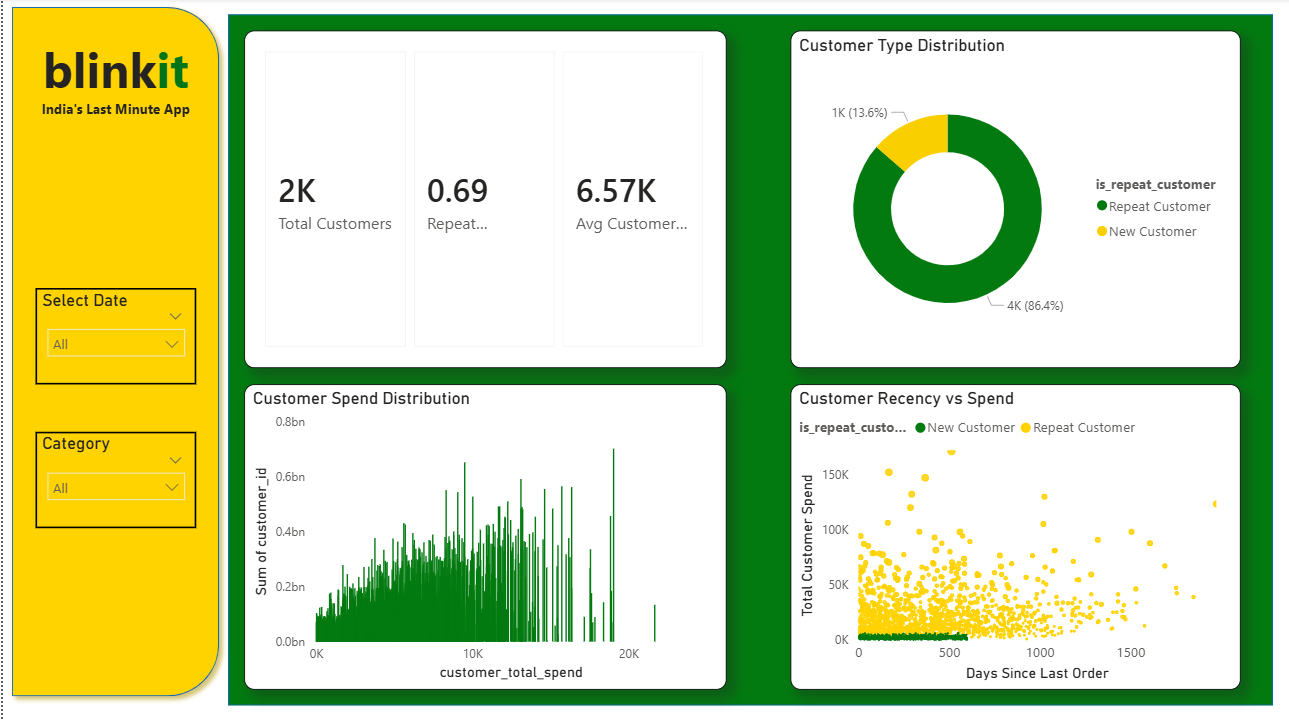

Layout of this report page (visuals, bound fields, positions):
{"tool":"powerbi","page":{"name":"Customer Insights","canvas":[1280,720],"ordinal":2},"visuals":[{"type":"shape","box":[224,16,1040,688],"z":0},{"type":"shape","box":[0,0,224,704],"z":1000},{"type":"textbox","box":[32,96,160,32],"z":2000},{"type":"textbox","box":[32,32,160,96],"z":3000},{"type":"slicer","title":"Select Date","fields":{"Values":["final_features_bi.order_date.Variation.Date Hierarchy.Year","final_features_bi.order_date.Variation.Date Hierarchy.Quarter","final_features_bi.order_date.Variation.Date Hierarchy.Month","final_features_bi.order_date.Variation.Date Hierarchy.Day"]},"box":[32,288,160,96],"z":4000},{"type":"slicer","title":"Category","fields":{"Values":["final_features_bi.category"]},"box":[32,432,160,96],"z":5000},{"type":"cardVisual","fields":{"Data":["final_features_bi.Total Customers","final_features_bi.Repeat Customer %","final_features_bi.Avg Customer Spend"]},"box":[240,32,480,336],"z":6000},{"type":"donutChart","title":"Customer Type Distribution","fields":{"Category":["final_features_bi.is_repeat_customer"],"Y":["final_features_bi.Total Orders"]},"box":[784,32,448,336],"z":7000},{"type":"clusteredColumnChart","title":"Customer Spend Distribution","fields":{"Category":["final_features_bi.customer_total_spend"],"Y":["Sum(final_features_bi.customer_id)"]},"box":[240,384,480,304],"z":8000},{"type":"scatterChart","title":"Customer Recency vs Spend","fields":{"X":["Sum(final_features_bi.customer_recency_days)"],"Y":["Sum(final_features_bi.customer_total_spend)"],"Size":["Sum(final_features_bi.customer_total_orders)"],"Category":["final_features_bi.customer_id"],"Series":["final_features_bi.is_repeat_customer"]},"box":[784,384,448,304],"z":9000}]}

Visuals, with their boxes in screenshot pixels (x1, y1, x2, y2), scaled from the page's 1280x720 canvas onto the 1289x720 screenshot:
shape: [left=226, top=16, right=1273, bottom=704]
shape: [left=0, top=0, right=226, bottom=704]
textbox: [left=32, top=96, right=193, bottom=128]
textbox: [left=32, top=32, right=193, bottom=128]
"Select Date" slicer: [left=32, top=288, right=193, bottom=384]
"Category" slicer: [left=32, top=432, right=193, bottom=528]
cardVisual - final_features_bi.Total Customers x final_features_bi.Repeat Customer %: [left=242, top=32, right=725, bottom=368]
"Customer Type Distribution" donutChart: [left=790, top=32, right=1241, bottom=368]
"Customer Spend Distribution" clusteredColumnChart: [left=242, top=384, right=725, bottom=688]
"Customer Recency vs Spend" scatterChart: [left=790, top=384, right=1241, bottom=688]
